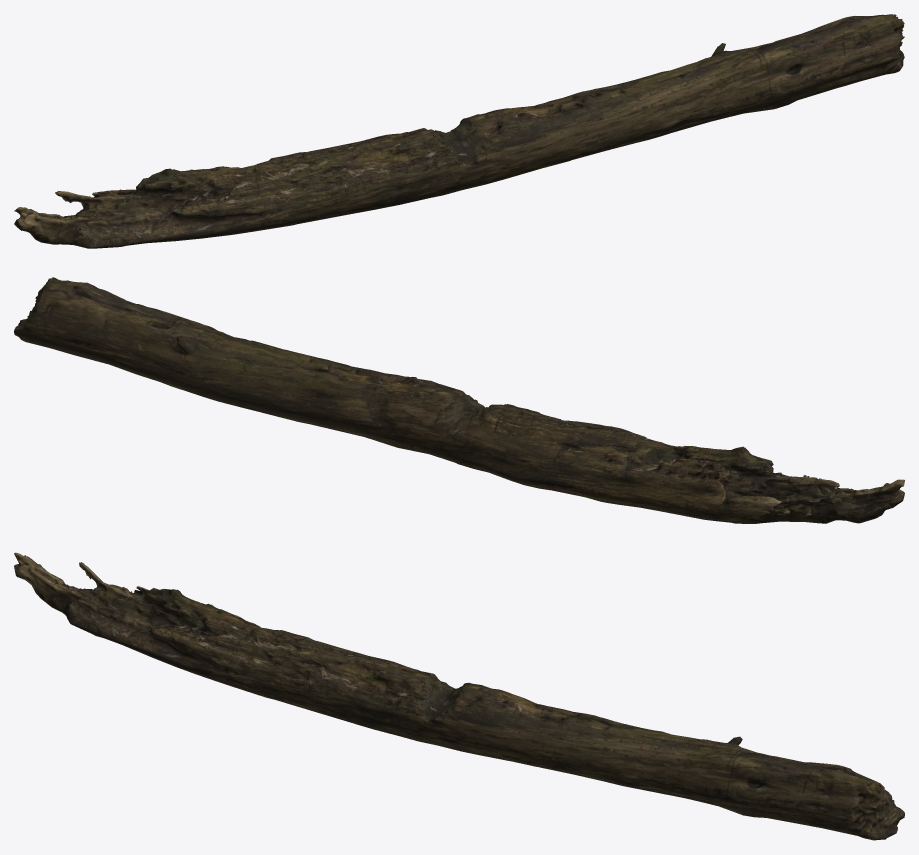
File: dead_tree_trunk.glb
The picture shows the model from 3 angles, top to bottom: view 1: azimuth 30°, elevation 25°; view 2: azimuth 150°, elevation 25°; view 3: azimuth 330°, elevation 25°; orthographic projection.
Visible parts, largest first — view 1: dead_tree_trunk; view 2: dead_tree_trunk; view 3: dead_tree_trunk.
Boxes of the visible parts, box(x1,y1,x2,y2) form: dead_tree_trunk: box(14, 14, 904, 248); dead_tree_trunk: box(14, 277, 904, 523); dead_tree_trunk: box(14, 552, 904, 840).
Bounding box in the file's own units: 3.05 × 0.2898 × 0.2775.
1 material, 1 textured.
